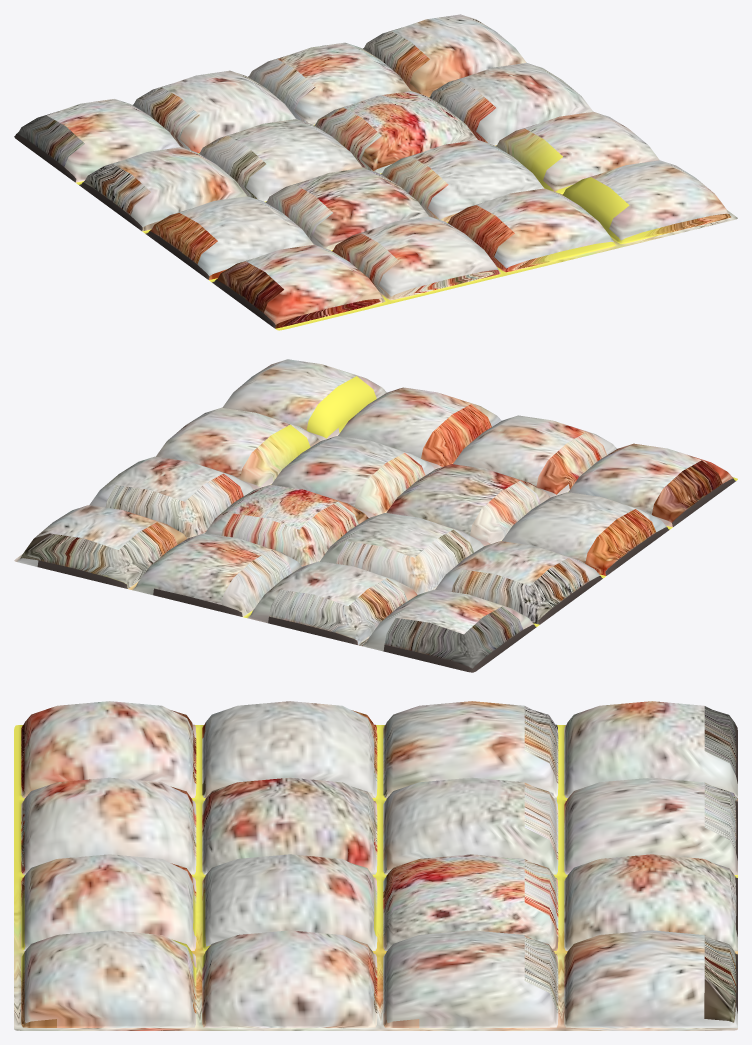
The model's file is Piso_008.fbx.
3 views of the same model, one above another, from view 1: azimuth 30°, elevation 25°; view 2: azimuth 150°, elevation 25°; view 3: azimuth 270°, elevation 25° (orthographic). The views are drawn at different scales.
Parts seen in each view (by area): view 1: Plane; view 2: Plane; view 3: Plane.
Boxes of the visible parts, x1,y1,x2,y2 form: Plane: (14, 14, 737, 330); Plane: (14, 359, 737, 672); Plane: (14, 701, 737, 1030).
Size of the model in its own units: 600 by 39.87 by 600.
